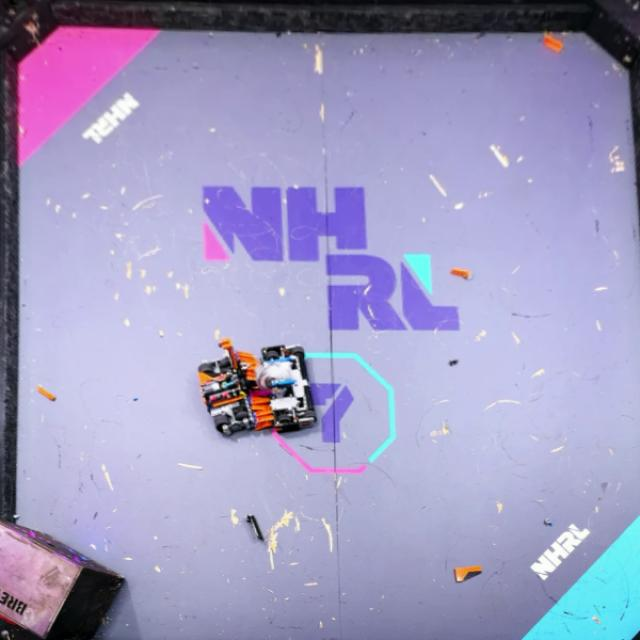housebot: (0, 518, 125, 640)
robot: (197, 338, 276, 436), (252, 342, 317, 434)
